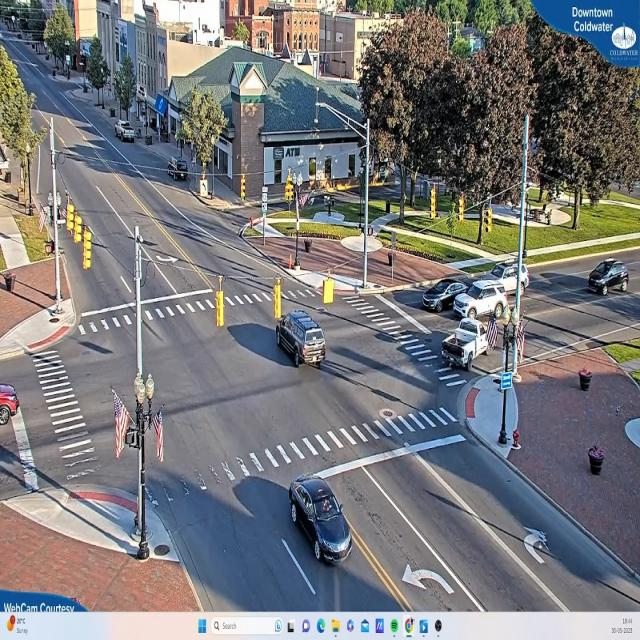car: (289, 478, 351, 564), (276, 308, 328, 367), (442, 319, 489, 372), (456, 284, 512, 321), (422, 280, 478, 312), (481, 264, 531, 299), (588, 260, 630, 296), (1, 384, 22, 423), (118, 121, 138, 142)
